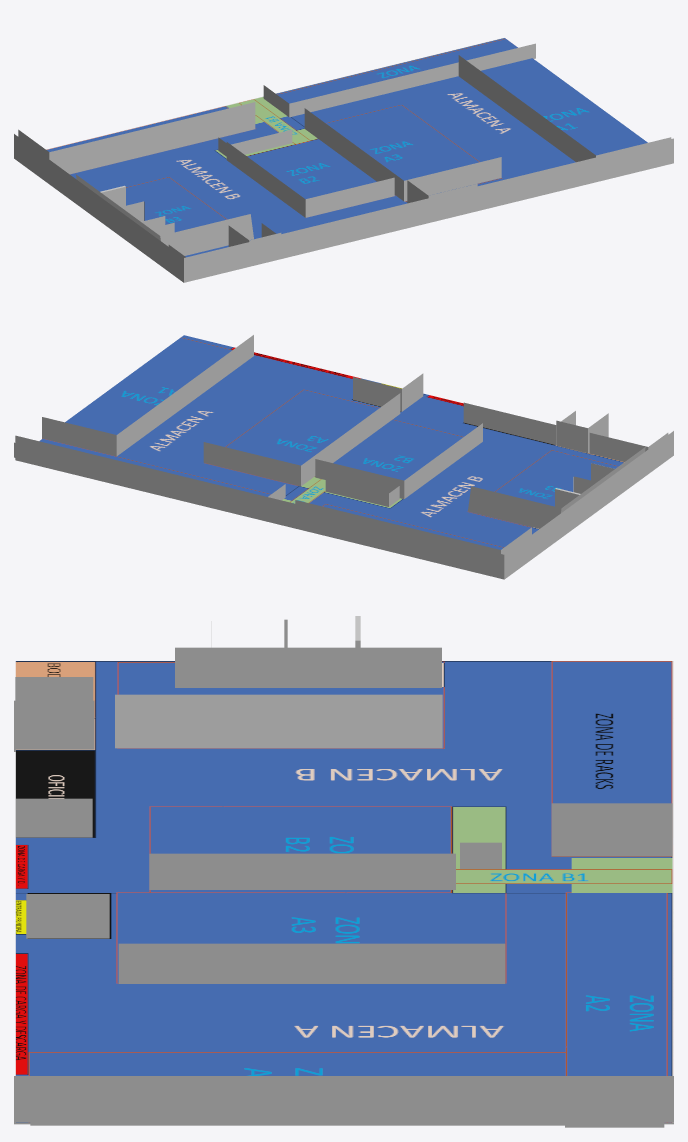
File: BodegaAR.glb
The picture shows the model from 3 angles, top to bottom: view 1: azimuth 30°, elevation 25°; view 2: azimuth 150°, elevation 25°; view 3: azimuth 270°, elevation 25°; orthographic projection. The views are drawn at different scales.
Visible parts, largest first — view 1: Plane, Cube, Cube.001, Cube.008, Cube.011, Cube.006, Cube.010, Cube.002, Cube.007, Cube.009; view 2: Plane, Cube, Cube.010, Cube.008, Cube.006, Cube.002, Cube.005, Cube.009, Cube.001, Cube.004, Cube.003, Cube.007; view 3: Plane, Cube.010, Cube, Cube.002, Cube.008, Cube.006, Cube.001, Cube.004, Cube.009, Cube.005, Cube.011, Cube.003 (+1 smaller).
Boxes of the visible parts, x1,y1,x2,y2 form: Plane: (46, 37, 647, 257); Cube: (14, 134, 673, 282); Cube.001: (18, 102, 255, 174); Cube.008: (304, 108, 501, 201); Cube.011: (263, 43, 535, 117); Cube.006: (226, 142, 394, 217); Cube.010: (458, 55, 671, 162); Cube.002: (76, 174, 253, 255); Cube.007: (218, 129, 292, 156); Cube.009: (407, 180, 477, 203); Plane: (39, 335, 624, 549); Cube: (15, 431, 673, 579); Cube.010: (42, 335, 253, 456); Cube.008: (203, 393, 400, 486); Cube.006: (315, 423, 482, 498); Cube.002: (468, 447, 645, 528); Cube.005: (463, 402, 575, 444); Cube.009: (353, 373, 423, 411); Cube.001: (295, 500, 531, 554); Cube.004: (556, 413, 608, 453); Cube.003: (589, 433, 668, 461); Cube.007: (325, 478, 399, 506); Plane: (15, 661, 673, 1122); Cube.010: (30, 1081, 564, 1125); Cube: (14, 616, 673, 1124); Cube.002: (115, 694, 442, 748); Cube.008: (118, 943, 505, 983); Cube.006: (149, 853, 455, 889); Cube.001: (551, 803, 672, 856); Cube.004: (14, 700, 94, 751); Cube.009: (26, 894, 109, 938); Cube.005: (15, 798, 92, 837); Cube.011: (565, 1098, 664, 1127); Cube.003: (15, 677, 93, 700).
Bounding box in the file's own units: 77.75 × 4.6 × 46.32.
1 material, 1 textured.
